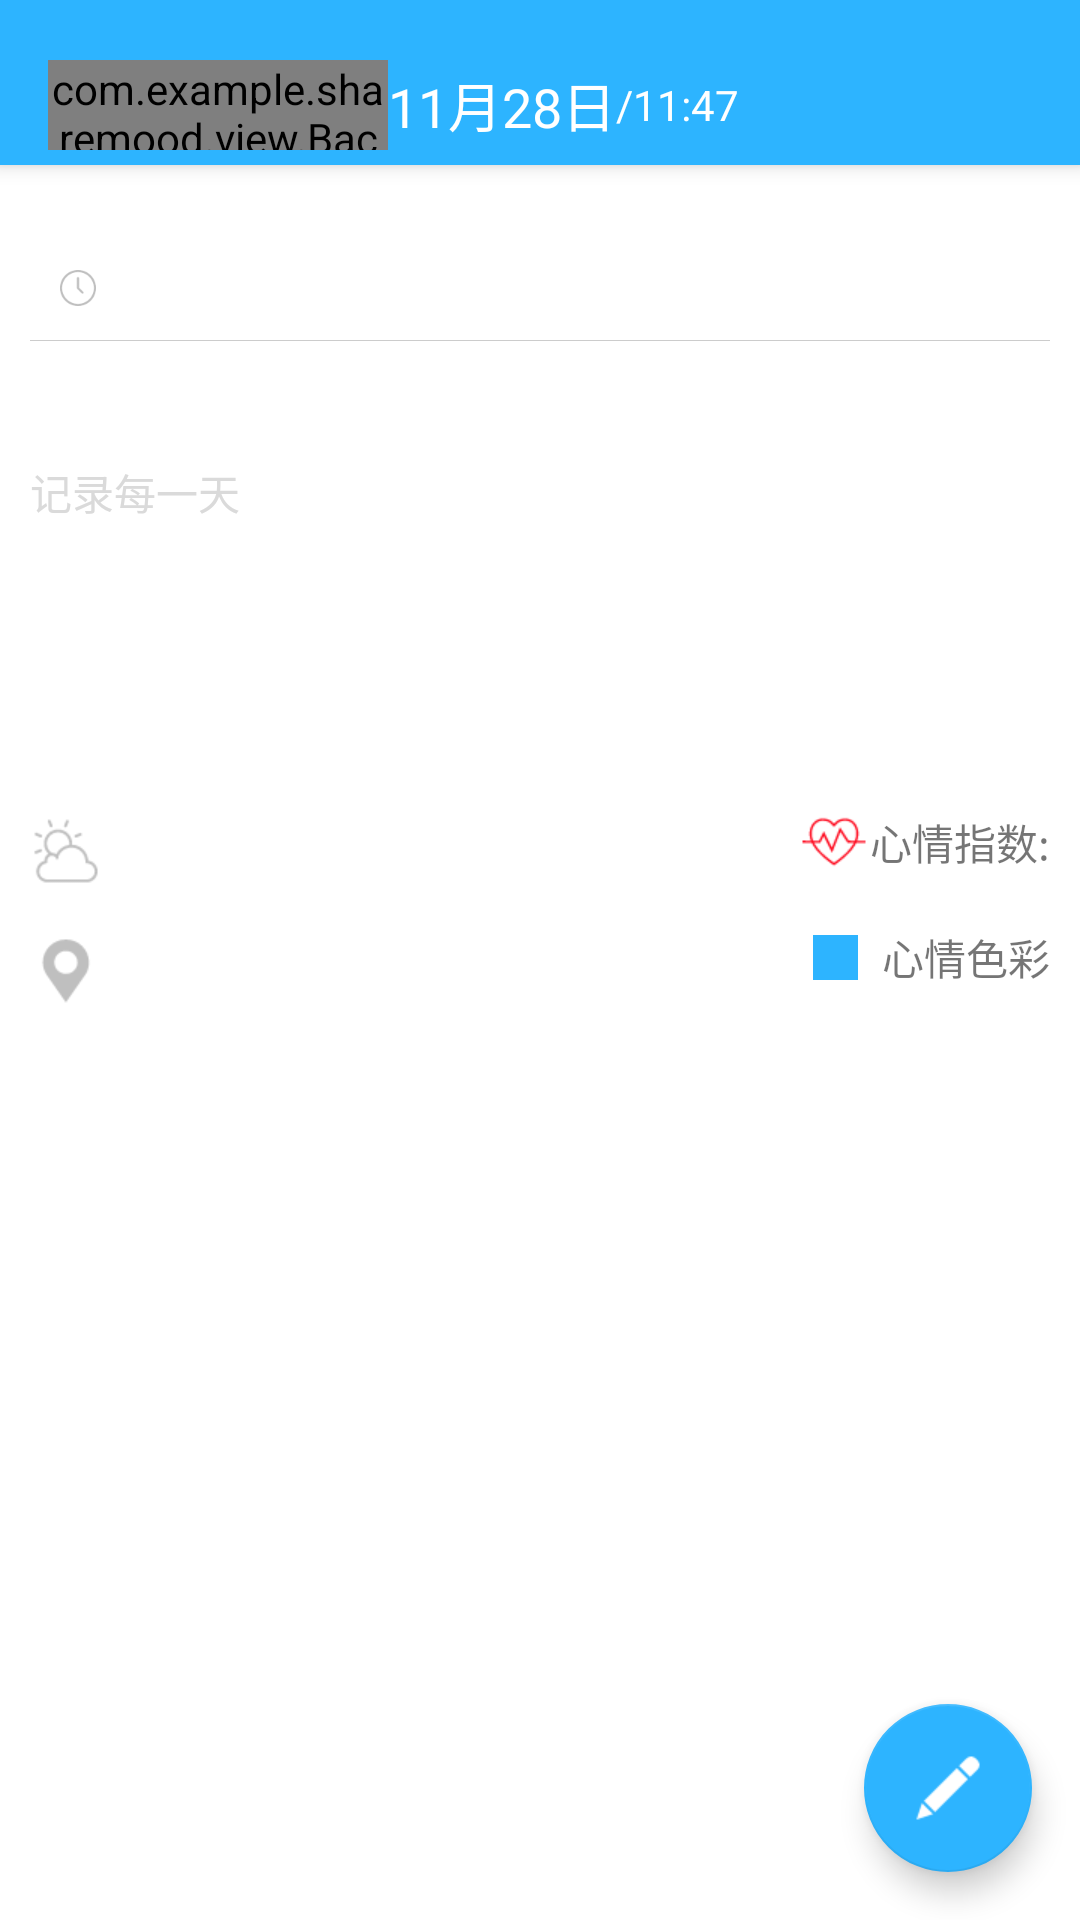

Where to tap for icons on this 1080w x 1920h app screen, as [x,y]:
location: [65,970]
pen: [948,1788]
time: [78,288]
weather: [66,851]
